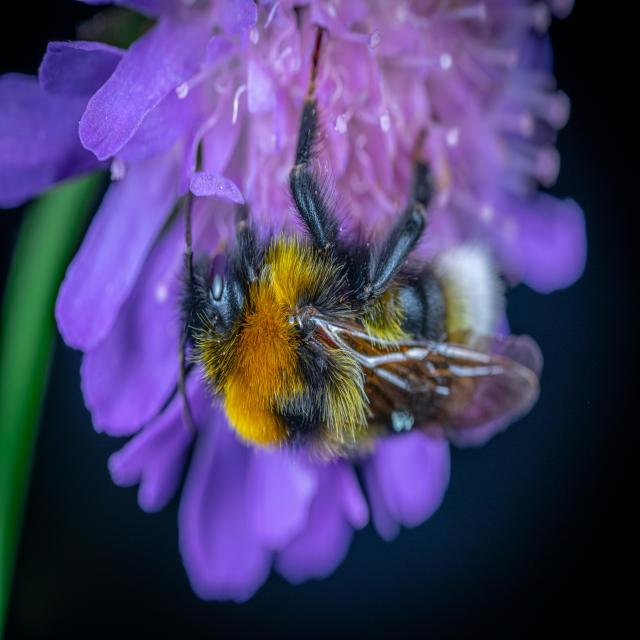bee: (171, 29, 545, 476)
